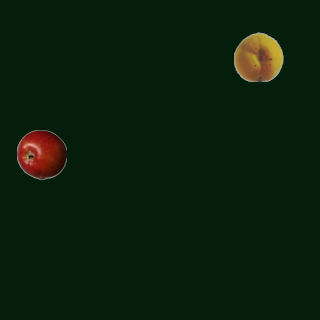Apple Braeburn: (16, 129, 66, 179)
Peach 2: (233, 31, 283, 81)
